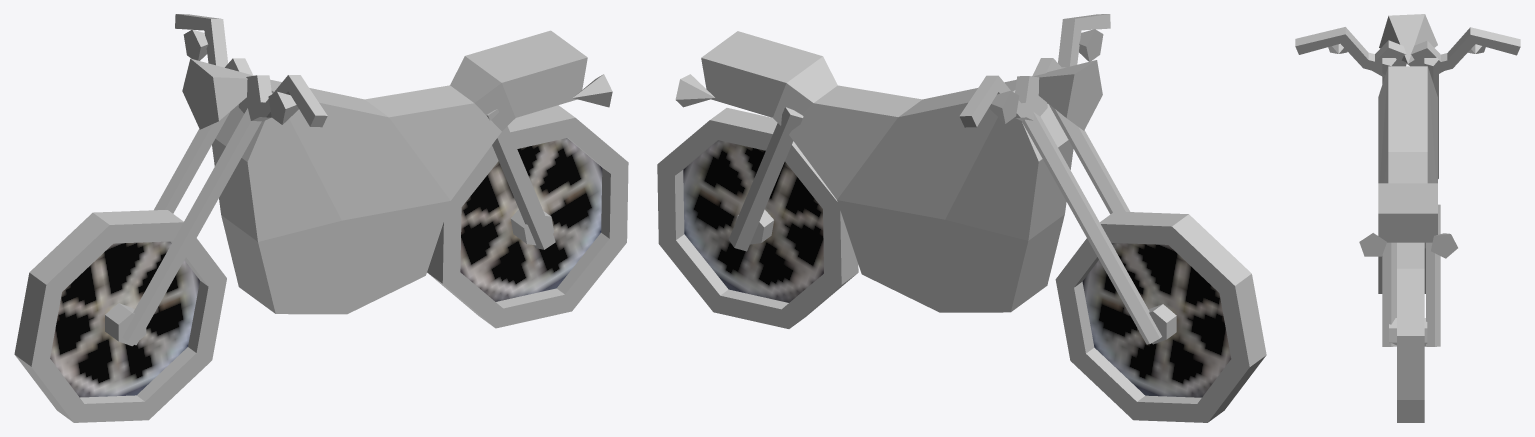
The model's file is kawasaki_spectre.fbx.
3 renders of one model, left to right at view 1: azimuth 30°, elevation 25°; view 2: azimuth 150°, elevation 25°; view 3: azimuth 270°, elevation 25°, orthographic. The views are drawn at different scales.
Parts seen in each view (by area): view 1: Cylinder.002; view 2: Cylinder.002; view 3: Cylinder.002.
Part boxes in pixels (box(x1,y1,x2,y2)): Cylinder.002: box(14, 14, 628, 422); Cylinder.002: box(657, 14, 1266, 422); Cylinder.002: box(1295, 14, 1520, 422).
Size of the model in its own units: 1007 by 552 by 408.
